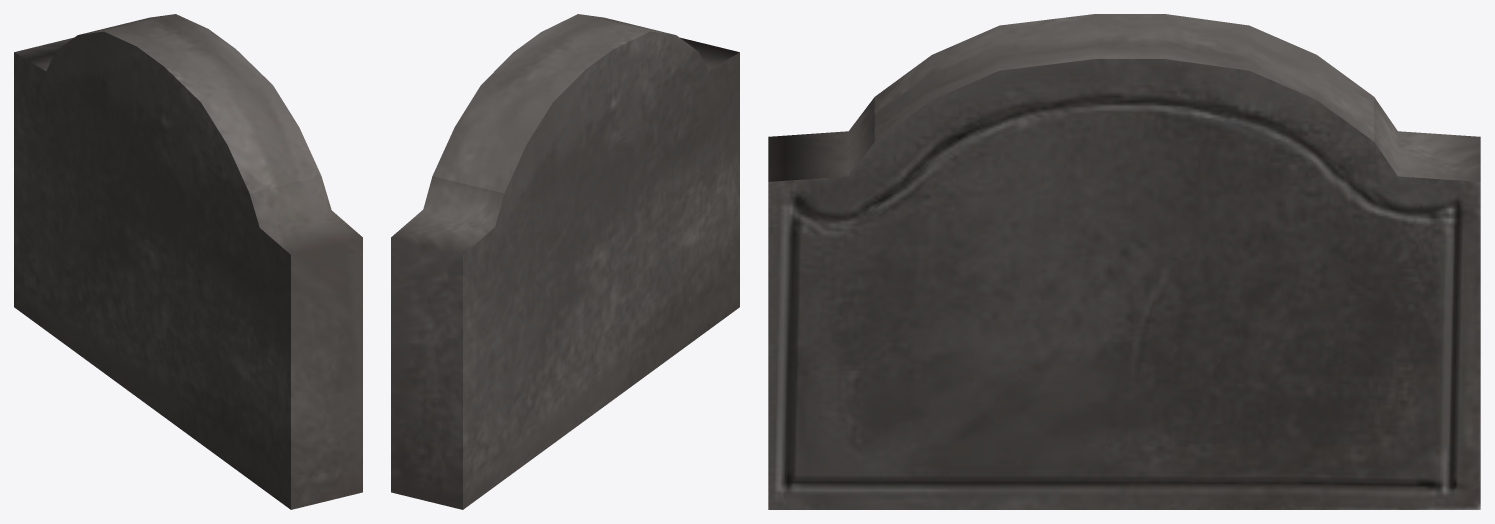
File: fancy_tombstone_1_.fbx
3 renders of one model, left to right at view 1: azimuth 30°, elevation 25°; view 2: azimuth 150°, elevation 25°; view 3: azimuth 270°, elevation 25°, orthographic. The views are drawn at different scales.
Visible parts, largest first — view 1: Fancy_Tombstone_1; view 2: Fancy_Tombstone_1; view 3: Fancy_Tombstone_1.
Boxes of the visible parts, left/top/right/bottom form: Fancy_Tombstone_1: left=14, top=14, right=362, bottom=509; Fancy_Tombstone_1: left=391, top=14, right=739, bottom=509; Fancy_Tombstone_1: left=768, top=14, right=1480, bottom=509.
Size of the model in its own units: 0.9072 by 4.23 by 6.05.
